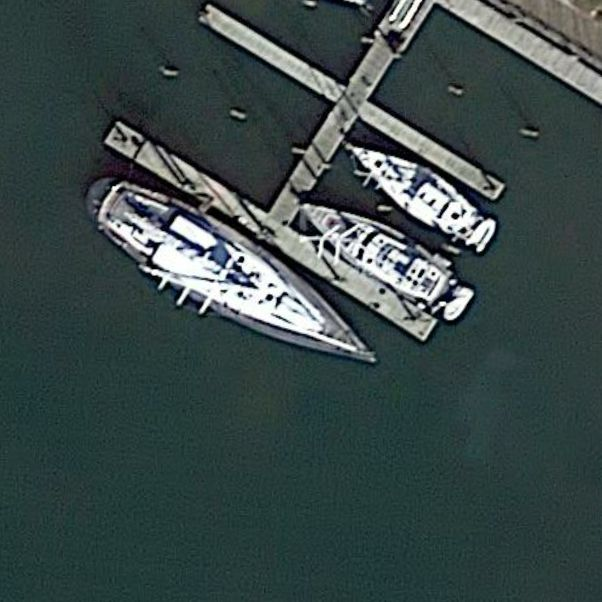boat: (77, 178, 376, 366), (296, 199, 471, 325), (339, 135, 499, 255)
